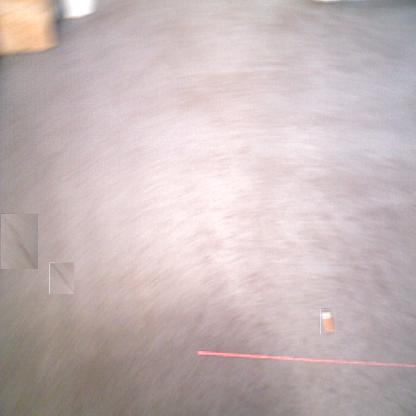dirty: (320, 308, 335, 334)
mark: (0, 213, 38, 269), (49, 262, 74, 294)
